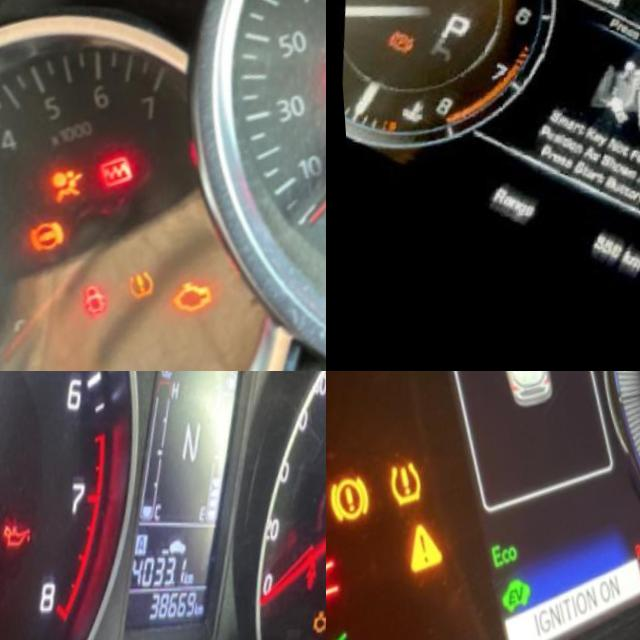Central Warning lamp: (392, 515, 445, 588)
Doors: (295, 570, 315, 615)
Engine cooling system: (392, 91, 431, 131)
